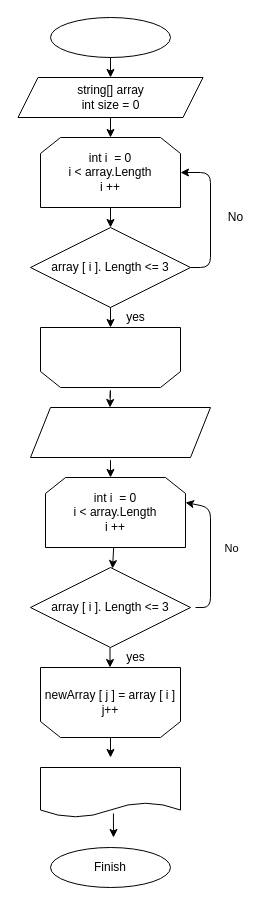
Some shapes in this 267 by 905 pixel diagram are drawn without their labels. The centre of each missing label's shape, as x and y in pixels:
newArray[j]: (x=110, y=792)
size ++: (x=110, y=357)
Start: (x=110, y=37)
string[ ] newArray = [size] int j = 0: (x=120, y=432)
